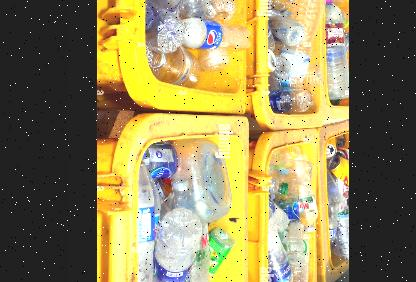Plastic Bottle: (152, 208, 202, 282), (174, 17, 252, 50), (136, 160, 156, 282), (267, 198, 292, 282), (295, 154, 317, 236), (207, 228, 235, 278)
